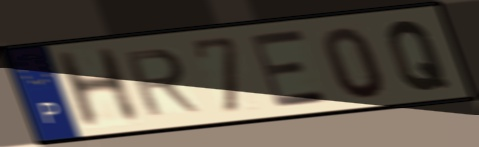0: (318, 22, 389, 101)
7: (187, 33, 246, 115)
E: (246, 27, 332, 110)
H: (50, 44, 145, 132)
Q: (384, 18, 453, 94)
R: (120, 46, 204, 120)
